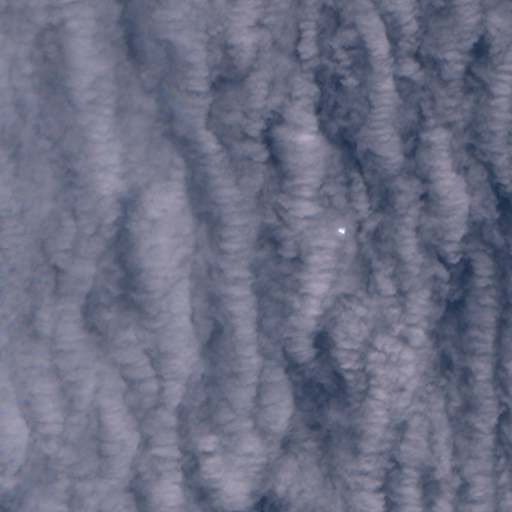Iceberg: (338, 228, 344, 233)
